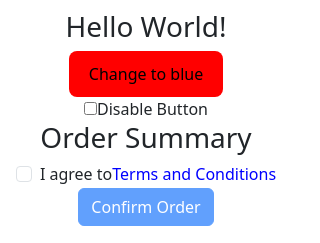
Test: button click flow
This screenshot has width=320, height=243.
Click the button "Change to blue".
click(146, 74)  # box [69, 51, 223, 97]
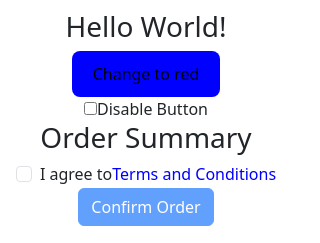
Result: the button named "blue" shows "red" at [72, 51, 220, 97]
